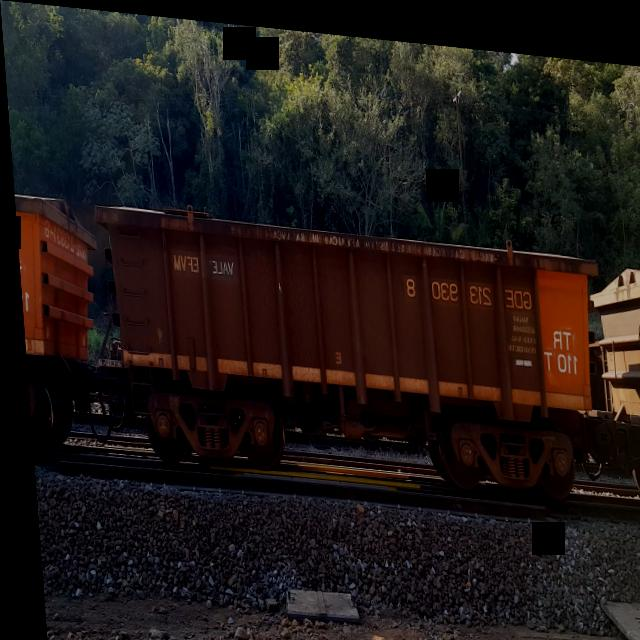gondola: (94, 192, 607, 496), (10, 174, 103, 461)
